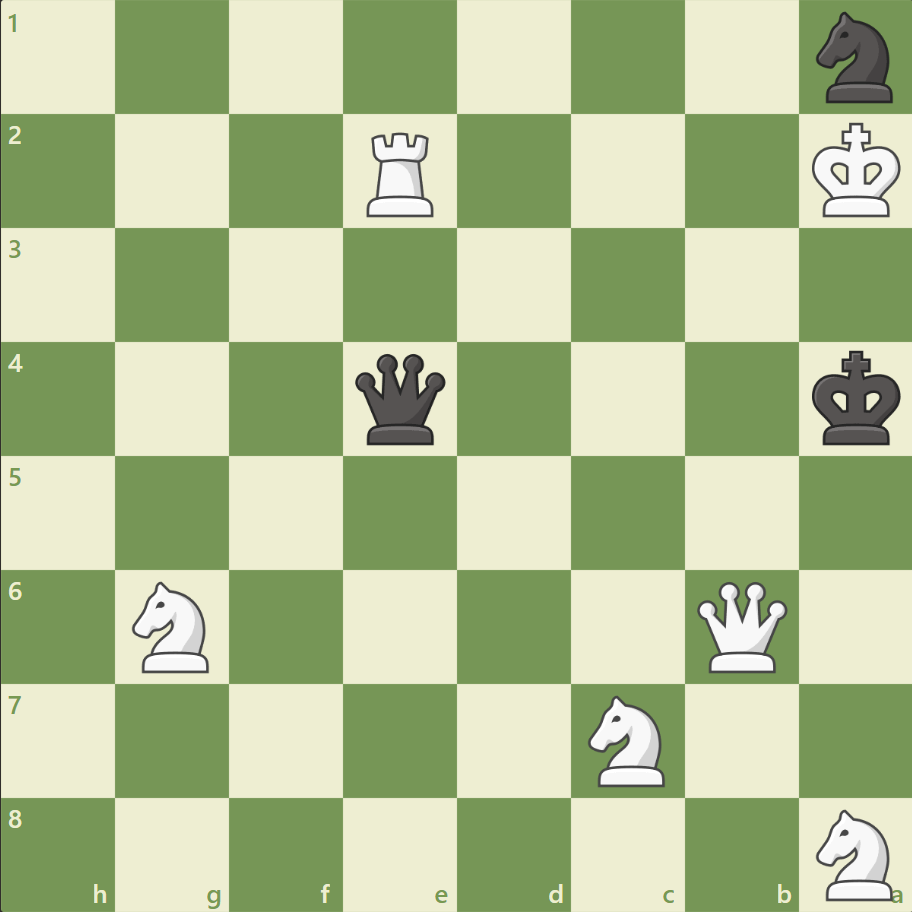K: (806, 117, 906, 225)
N: (124, 575, 222, 677), (579, 688, 676, 791), (806, 802, 903, 904)
Q: (691, 576, 790, 676)
R: (360, 125, 442, 222)
k: (806, 344, 906, 452)
n: (806, 7, 903, 110)
q: (351, 349, 450, 449)
